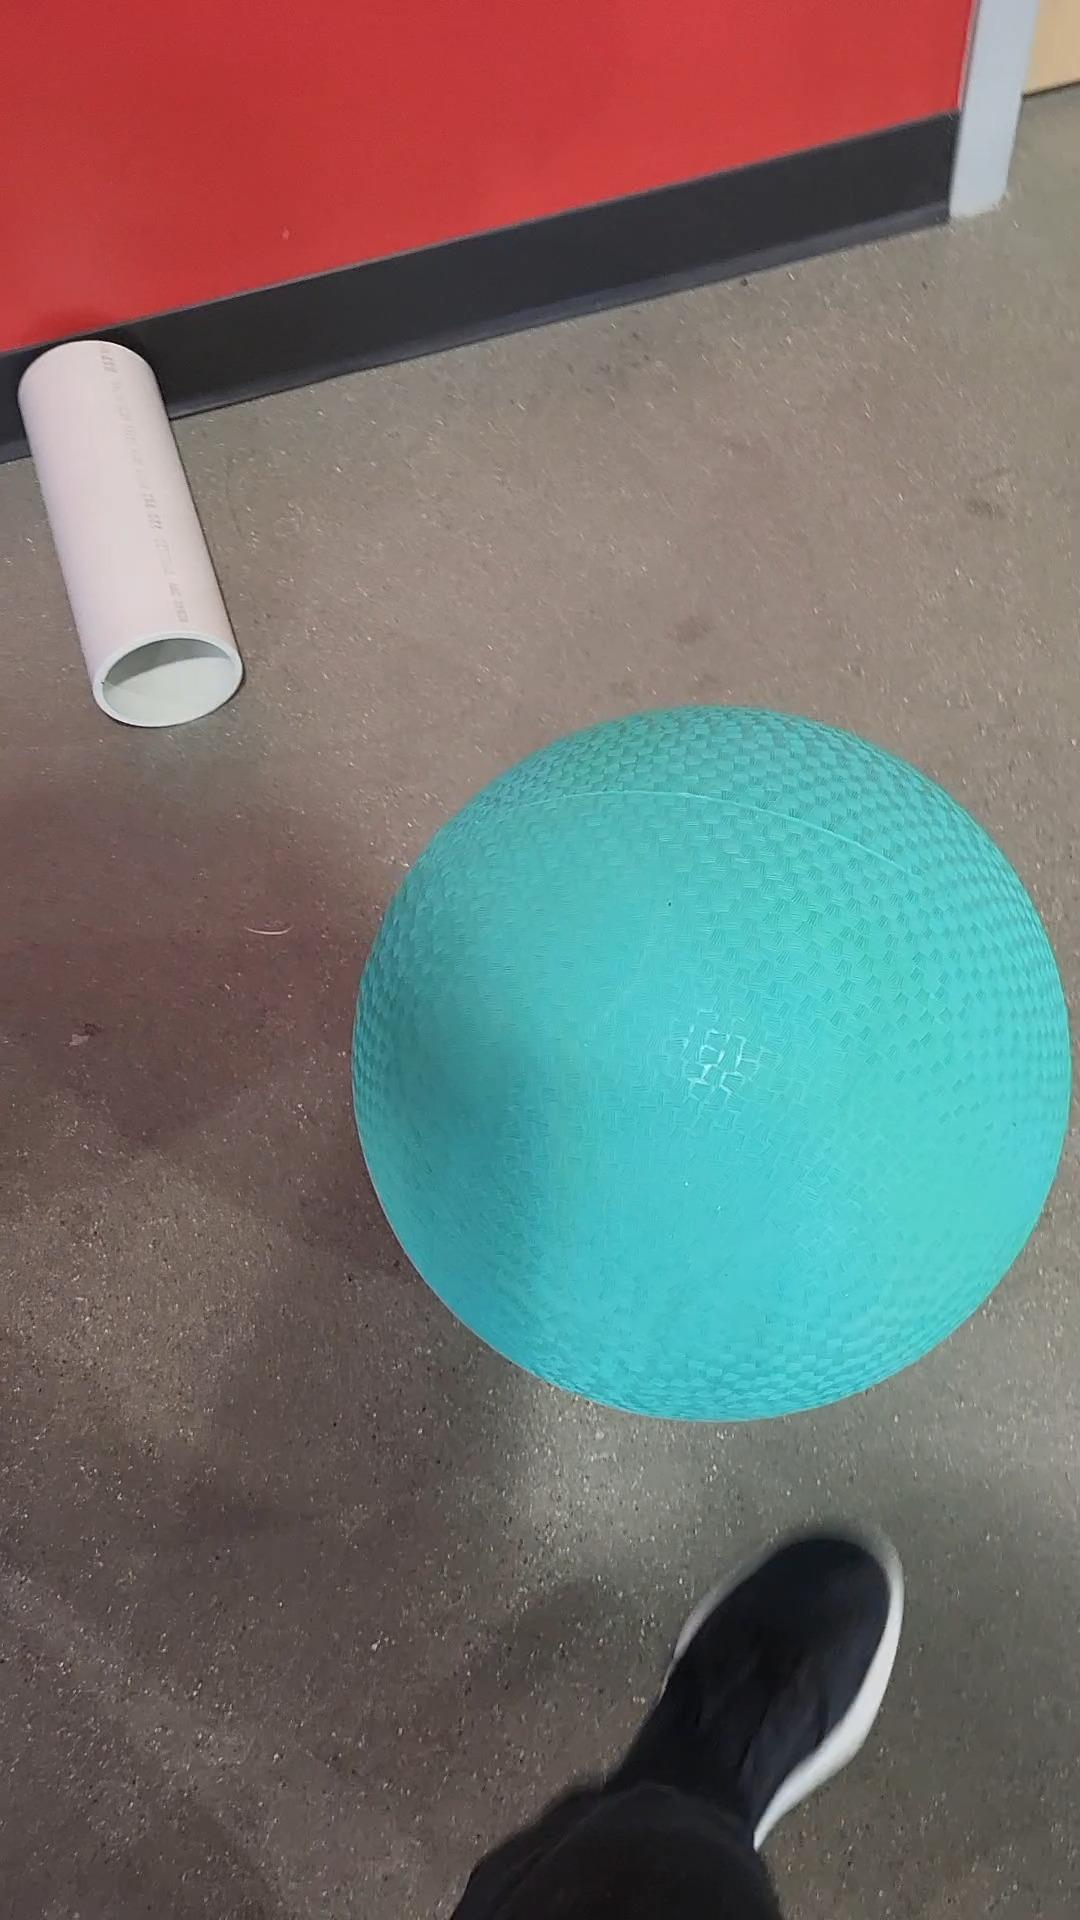algae: (351, 696, 1080, 1428)
coral: (16, 331, 262, 736)
